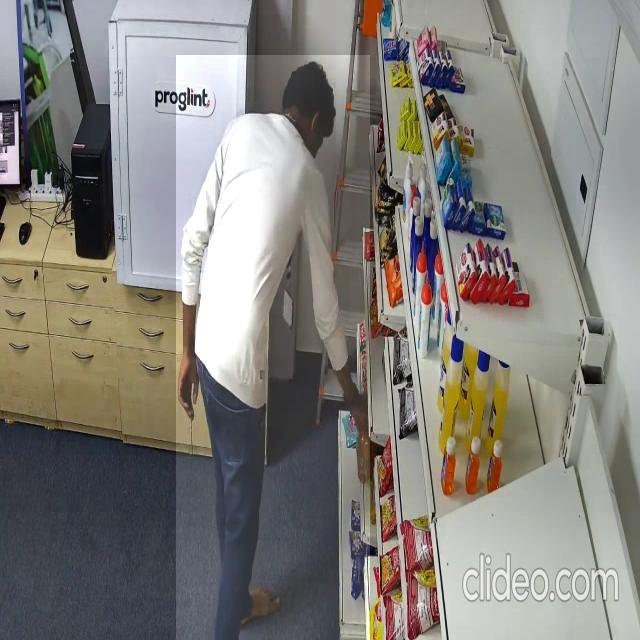normal: (176, 55, 370, 640)
